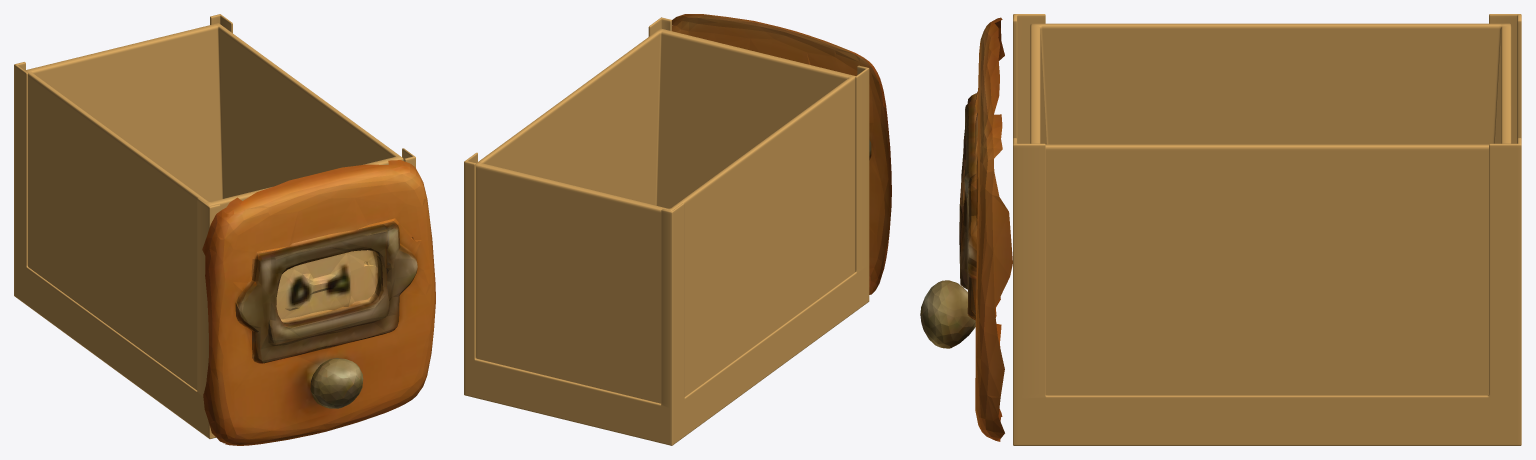
File: drawer_top_right.glb
3 renders of one model, left to right at view 1: azimuth 30°, elevation 25°; view 2: azimuth 150°, elevation 25°; view 3: azimuth 270°, elevation 25°, orthographic. The views are drawn at different scales.
Visible parts, largest first — view 1: prefab_drawer_body_3, source_front_cap_0; view 2: prefab_drawer_body_3, source_front_cap_0; view 3: prefab_drawer_body_3, source_front_cap_0.
Boxes of the visible parts, x1=… form: prefab_drawer_body_3: x1=14, y1=14, x2=415, y2=438; source_front_cap_0: x1=202, y1=160, x2=435, y2=445; prefab_drawer_body_3: x1=464, y1=17, x2=869, y2=445; source_front_cap_0: x1=672, y1=14, x2=891, y2=294; prefab_drawer_body_3: x1=1013, y1=14, x2=1521, y2=445; source_front_cap_0: x1=920, y1=17, x2=1012, y2=441.
Bounding box in the file's own units: 0.095 × 0.102 × 0.166.
2 materials, 1 textured.
